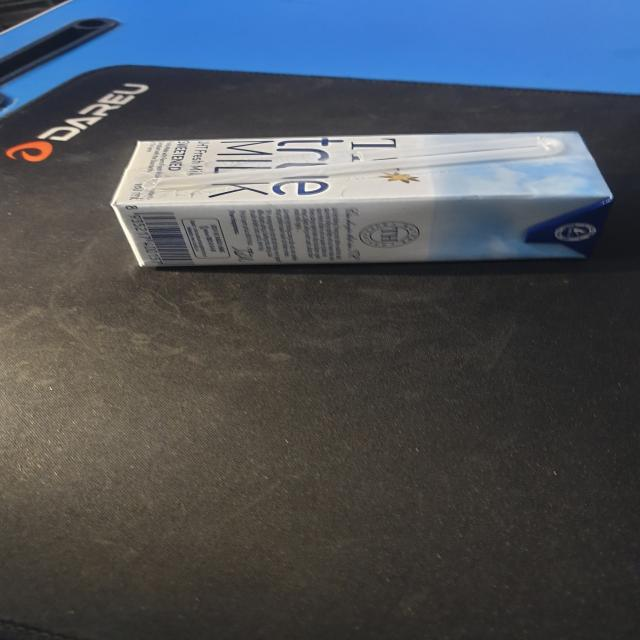TH: (111, 129, 629, 274)
